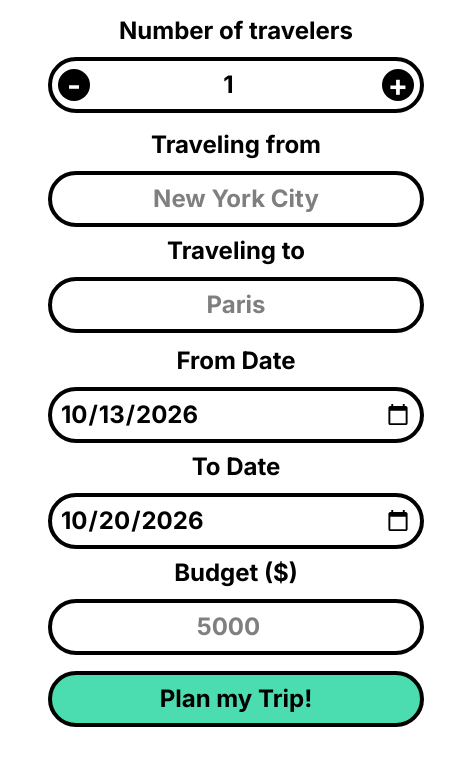
Scenario: Form › InputField behavior › shows validation message upon failed submission.
In the number field labelled "Number of travelers": {"x": 236, "y": 85} 48,57 -> 424,113, type "12"
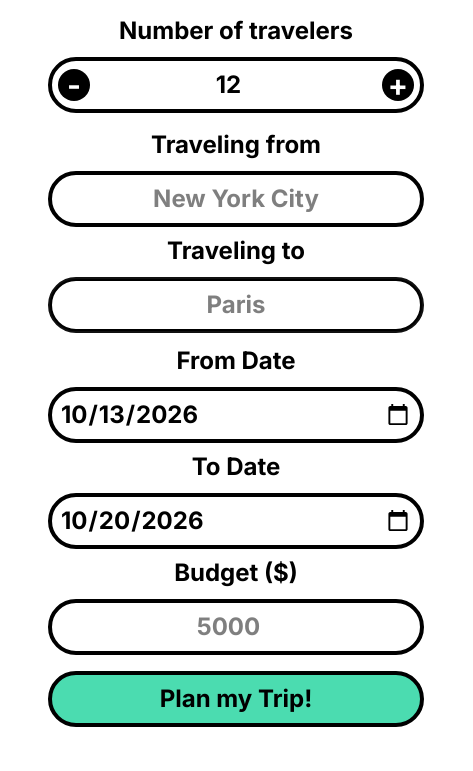
In the date field labelled "From Date": {"x": 236, "y": 415} 48,387 -> 424,443, type "September 8th 2026"
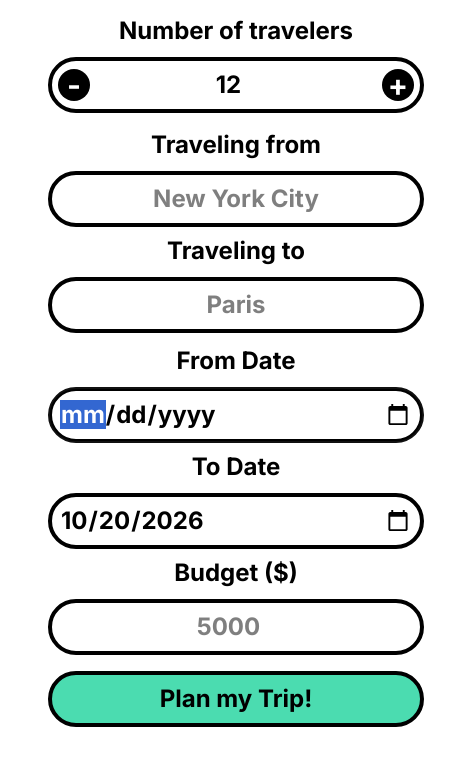
In the date field labelled "To Date": {"x": 236, "y": 521} 48,493 -> 424,549, type "September 1th 2026"
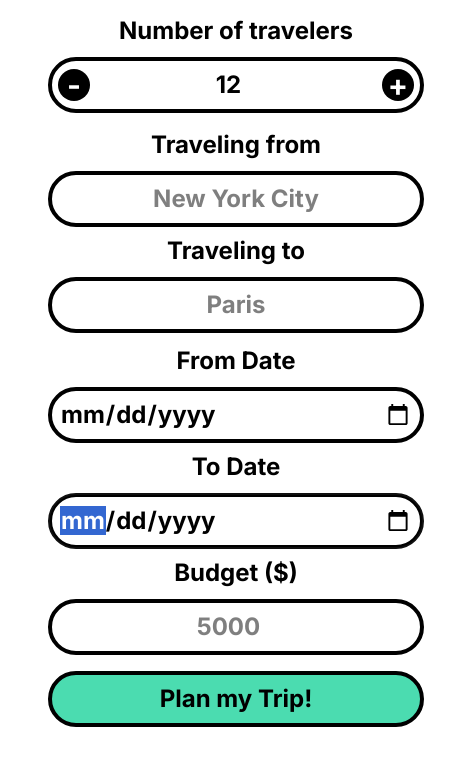
In the number field labelled "Budget ($)": {"x": 236, "y": 627} 48,599 -> 424,655, type "-1000"
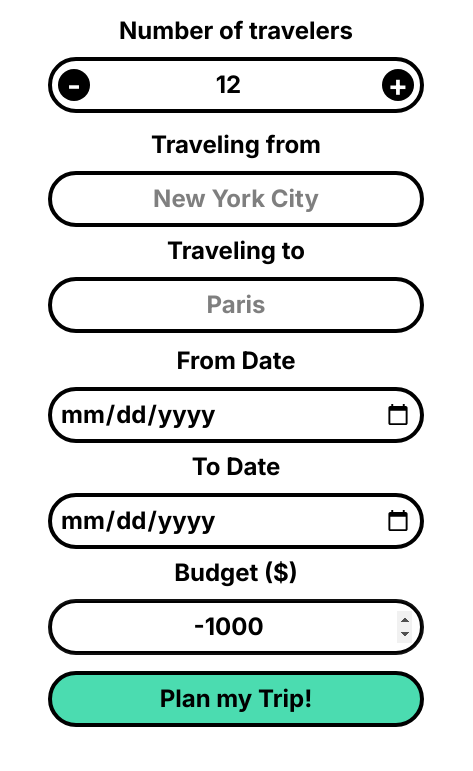
Submit the form
(page scrolled)
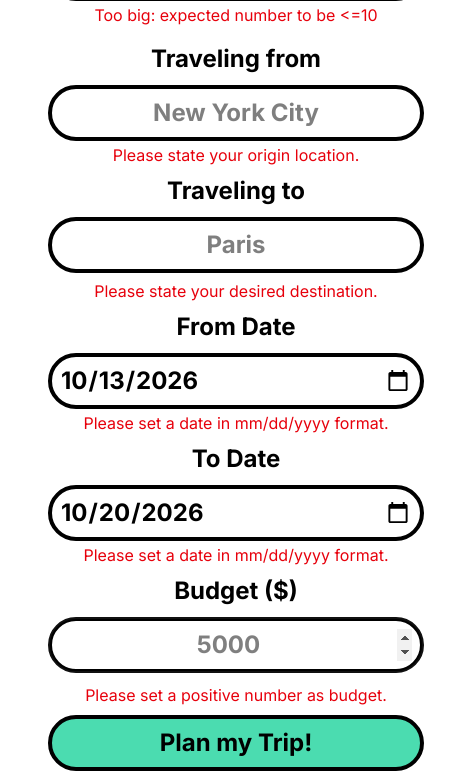
Expected: the text "Too big: expected number to be <=10" is shown, 94,5 -> 378,25
Expected: the text "Please state your origin location." is shown, 113,145 -> 359,165
Expected: the text "Please state your desired destination." is shown, 94,281 -> 378,301
